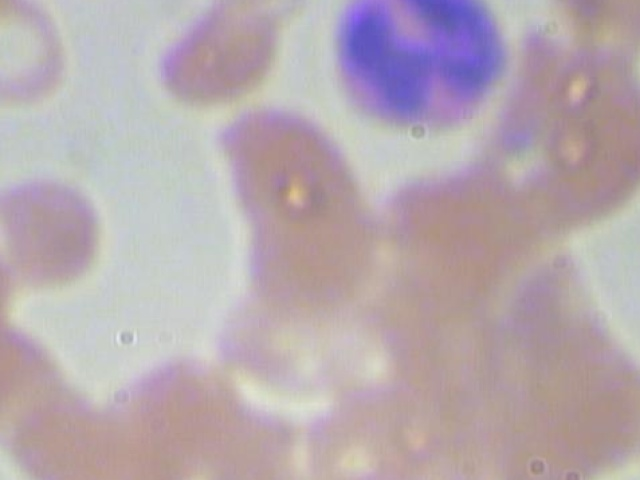WBC: (319, 0, 526, 135)
